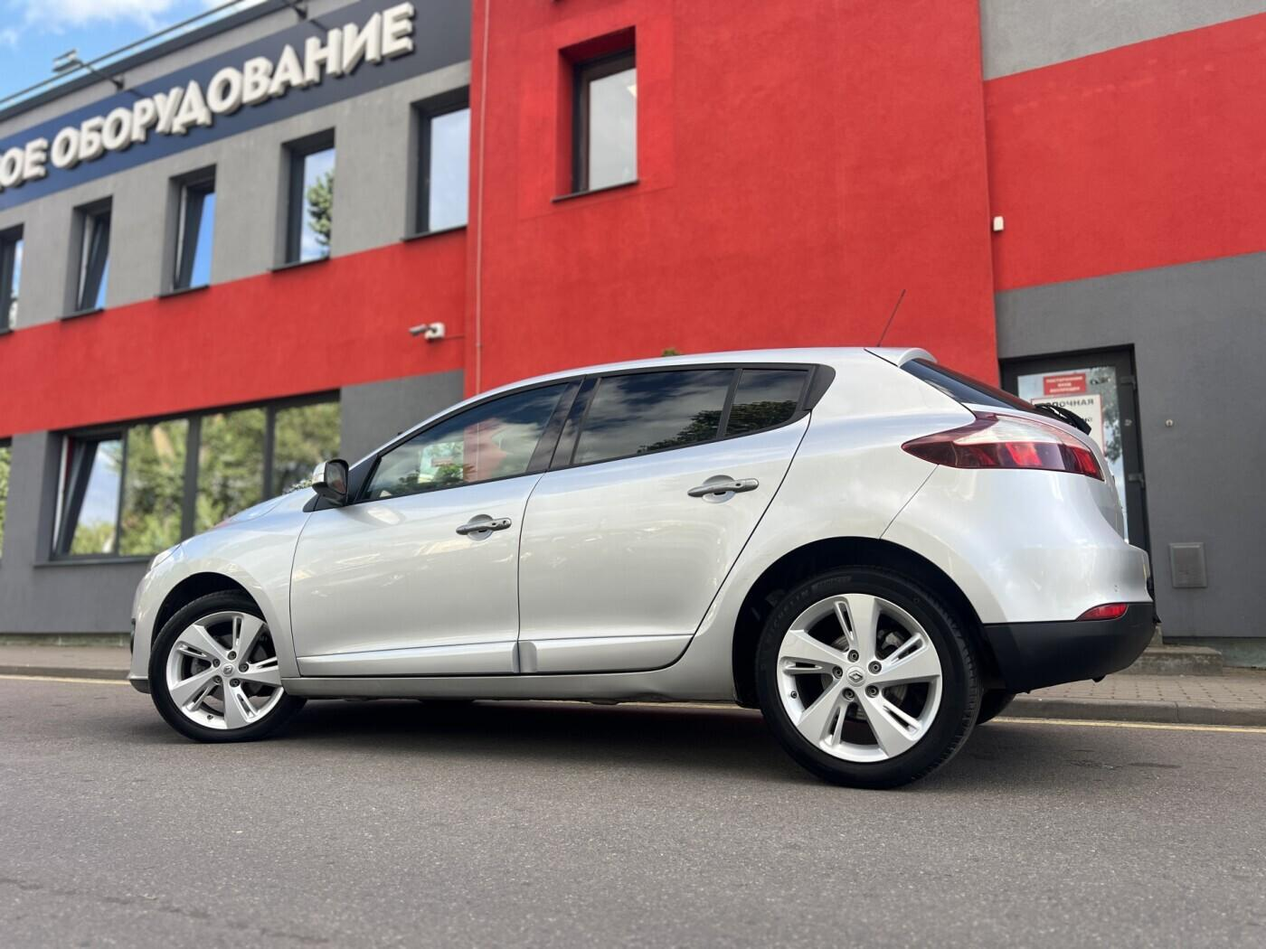Megane_2014-2016: (125, 343, 1167, 776)
